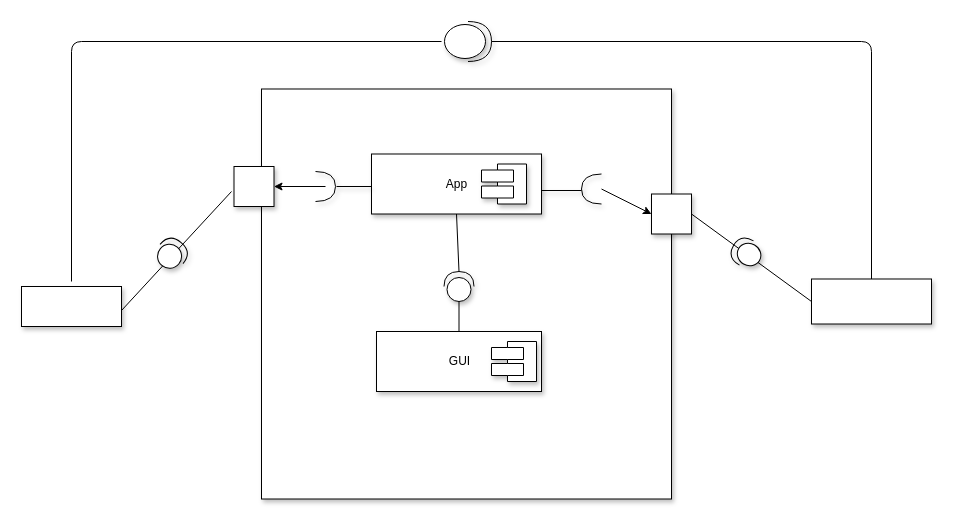
Image size: 955x524. Some labels were removed from this diagram. Each missing label, with the centre of its shape:
"Device" goes at (x=872, y=302).
"User" goes at (x=72, y=308).
